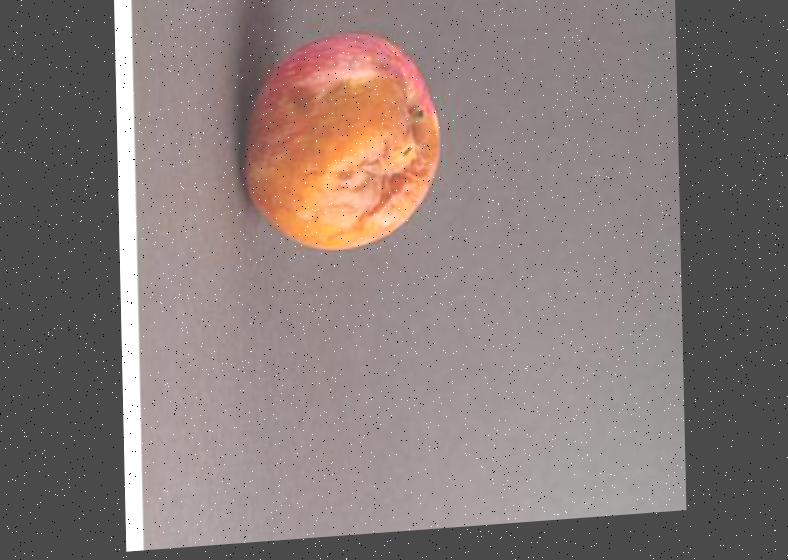ROT: (235, 26, 455, 292)
